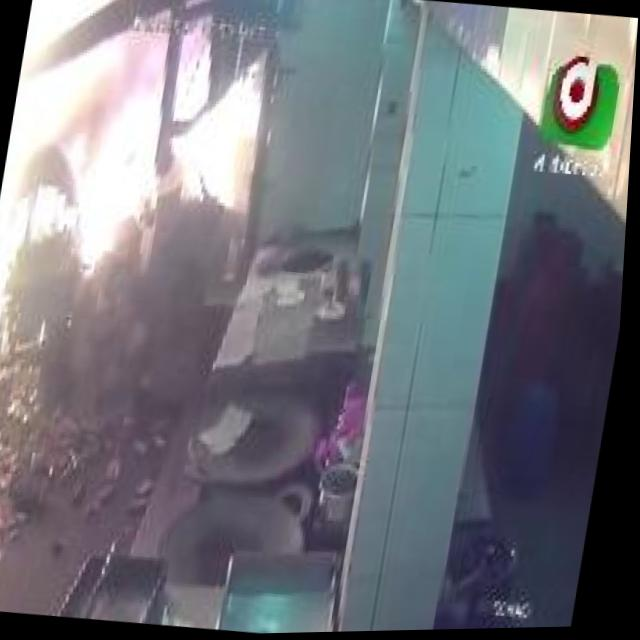fire: (55, 47, 275, 312), (0, 0, 111, 380)
